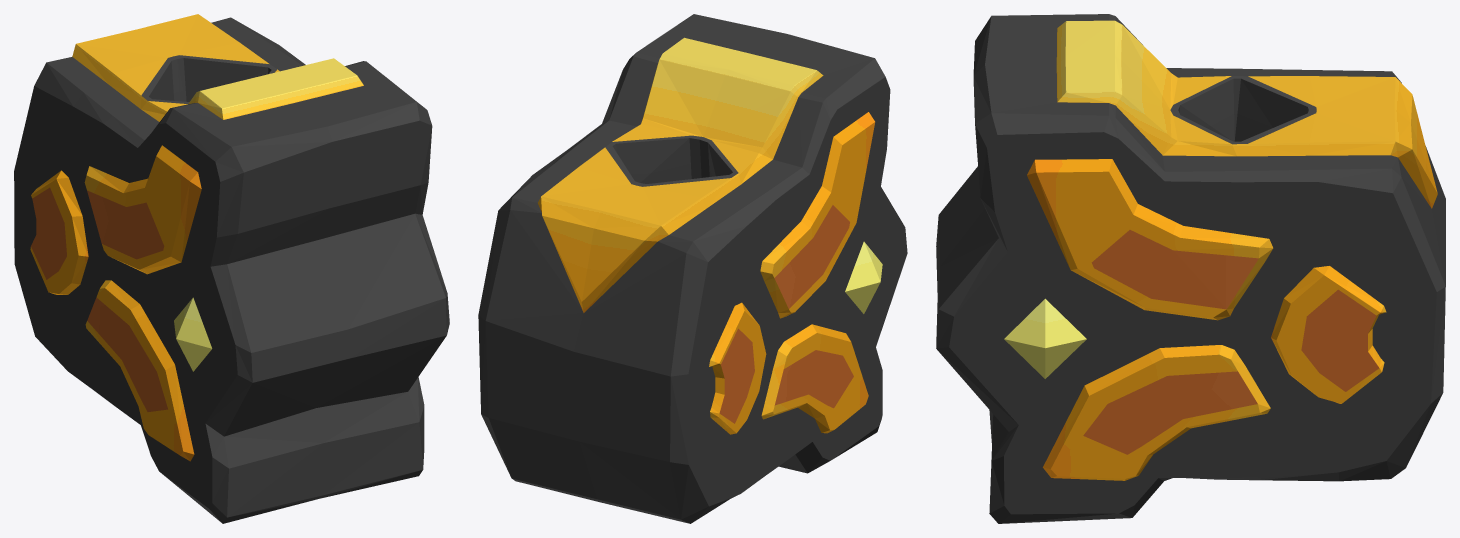
The model's file is CharSkyKid_Neck_DragonTailBlack.glb.
3 views of the same model, side by side, from view 1: azimuth 30°, elevation 25°; view 2: azimuth 150°, elevation 25°; view 3: azimuth 270°, elevation 25° (orthographic). The views are drawn at different scales.
Visible parts, largest first — view 1: CharSkyKid_Neck_DragonTailBlack; view 2: CharSkyKid_Neck_DragonTailBlack; view 3: CharSkyKid_Neck_DragonTailBlack.
Part boxes in pixels (x1,y1,x2,y2): CharSkyKid_Neck_DragonTailBlack: (14, 14, 449, 523); CharSkyKid_Neck_DragonTailBlack: (478, 14, 907, 523); CharSkyKid_Neck_DragonTailBlack: (936, 14, 1445, 523).
Bounding box in the file's own units: 5.88 × 8.81 × 9.76.
Materials: 1 (1 with a texture image).
